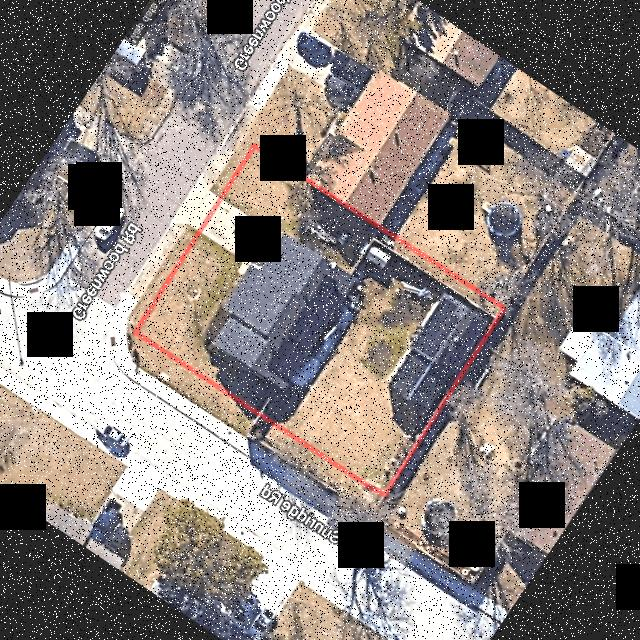Driveway: (202, 199, 282, 269)
Extra Driveway: (188, 191, 219, 229)
Extra Lawn: (126, 327, 384, 515), (127, 223, 198, 332), (209, 136, 254, 196)
House: (213, 234, 354, 388)
Other: (386, 291, 491, 415), (291, 287, 363, 387), (364, 243, 392, 269)
Sidewalk: (223, 260, 253, 305)
